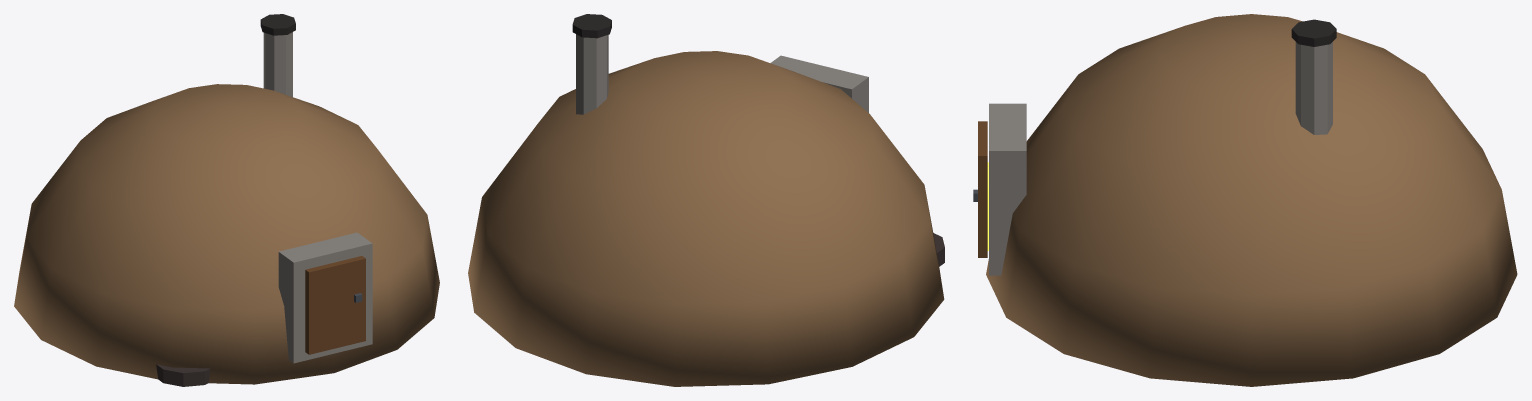
The model's file is CharcoalKiln@DoorOpen.fbx.
The picture shows the model from 3 angles, left to right: view 1: azimuth 30°, elevation 25°; view 2: azimuth 150°, elevation 25°; view 3: azimuth 270°, elevation 25°; orthographic projection. The views are drawn at different scales.
Visible parts, largest first — view 1: CharcoalKiln_Body, CharcoalKiln_Door; view 2: CharcoalKiln_Body; view 3: CharcoalKiln_Body, CharcoalKiln_Door.
Part boxes in pixels (bbox=[...]): CharcoalKiln_Body: bbox=[14, 14, 439, 386]; CharcoalKiln_Door: bbox=[305, 256, 365, 354]; CharcoalKiln_Body: bbox=[468, 14, 944, 386]; CharcoalKiln_Body: bbox=[986, 14, 1517, 386]; CharcoalKiln_Door: bbox=[973, 121, 987, 257].
Size of the model in its own units: 1.7 by 1.03 by 1.74.
